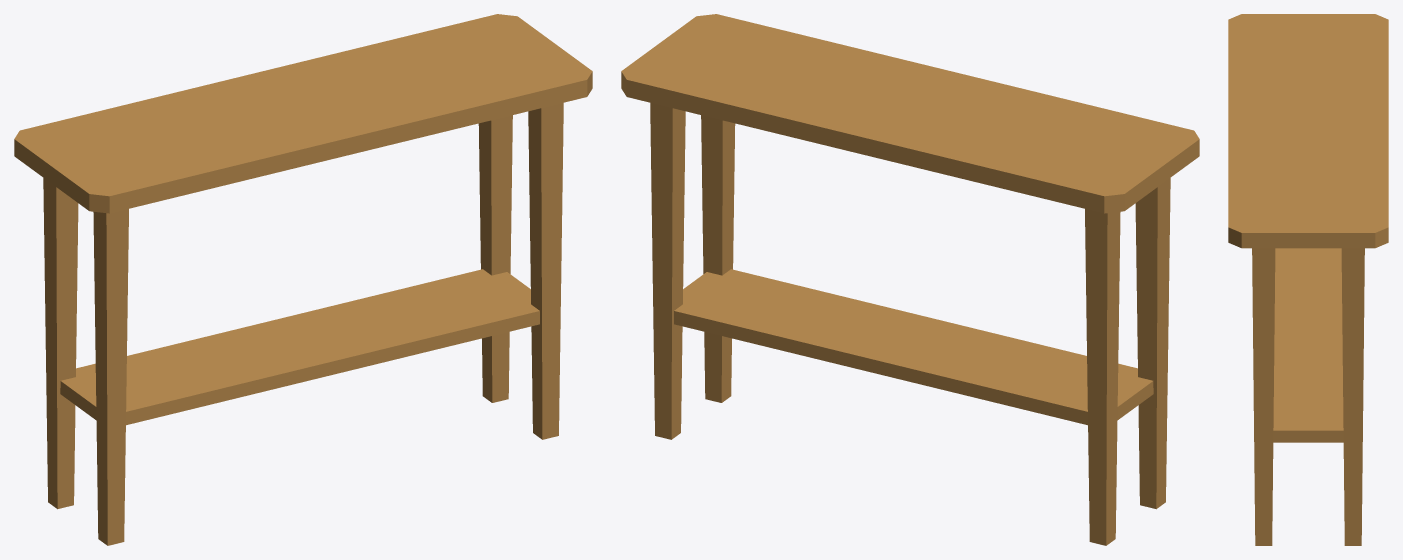
File: SM_LPI_Table_Console_01.fbx
3 renders of one model, left to right at view 1: azimuth 30°, elevation 25°; view 2: azimuth 150°, elevation 25°; view 3: azimuth 270°, elevation 25°, orthographic. The views are drawn at different scales.
Visible parts, largest first — view 1: SM_LPI_Table_Console_01; view 2: SM_LPI_Table_Console_01; view 3: SM_LPI_Table_Console_01.
Part boxes in pixels (<box>): SM_LPI_Table_Console_01: <box>14,14,592,545</box>; SM_LPI_Table_Console_01: <box>621,14,1199,545</box>; SM_LPI_Table_Console_01: <box>1228,14,1388,545</box>.
Bounding box in the file's own units: 1.1 × 0.76 × 0.34.
